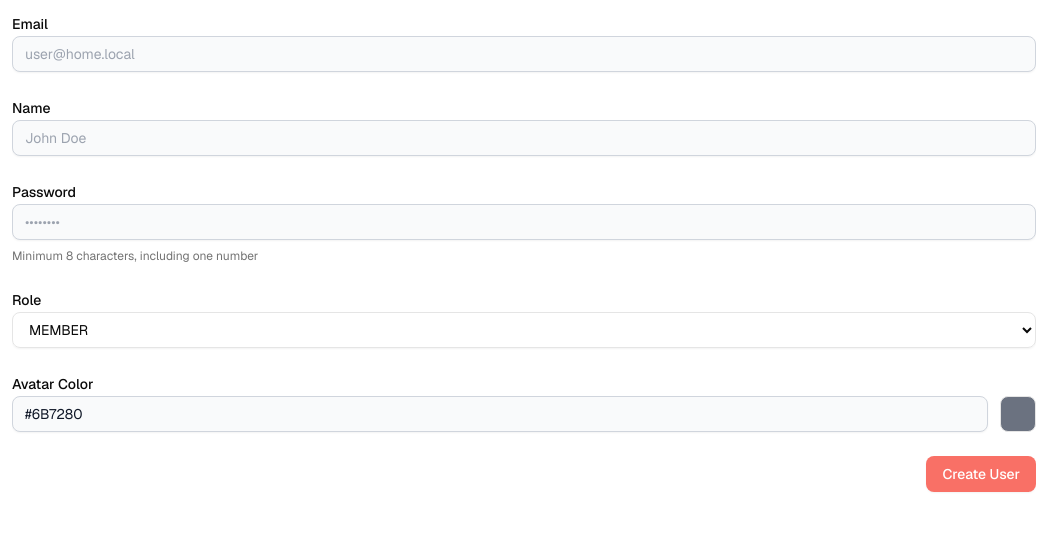
UserForm Component › Form Validation › should require password field in create mode
The image size is (1048, 541).
// Fill other required fields but not password
In the field labelled "Email": (524,54) [12,36,1036,72], type "test@example.com"
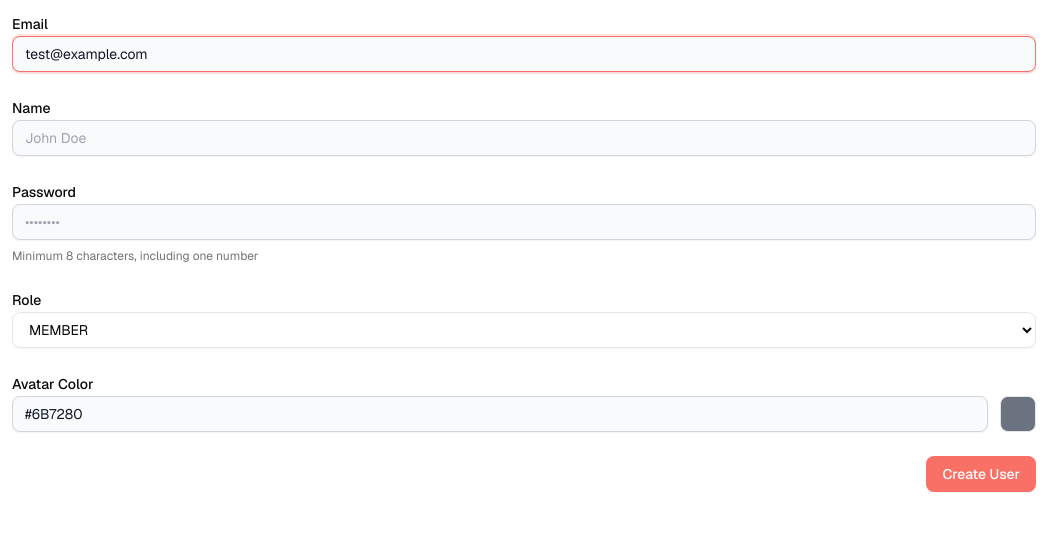
In the field labelled "Name": (524,138) [12,120,1036,156], type "Test User"
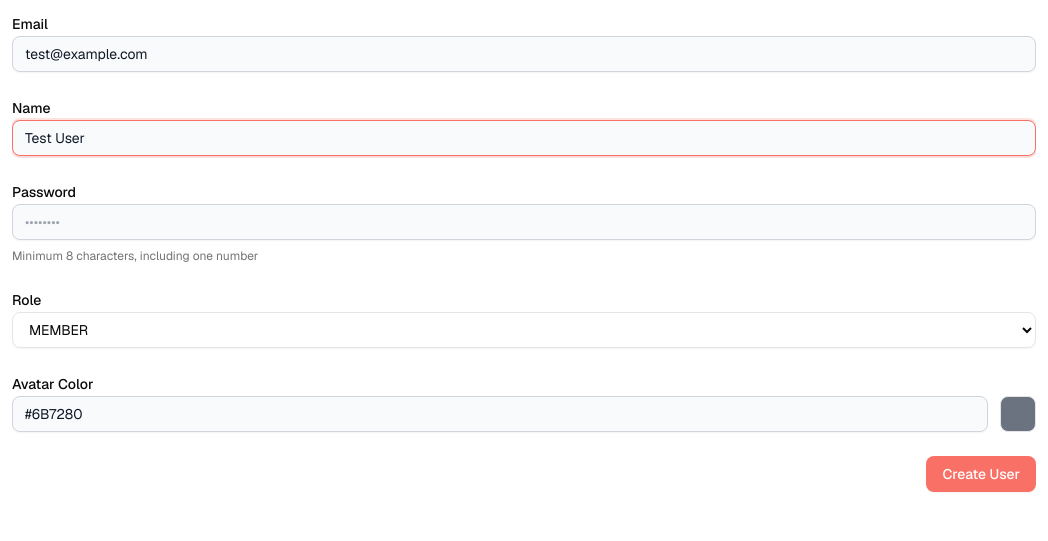
Click the button "Create User": (981,474) [926,456,1036,492]
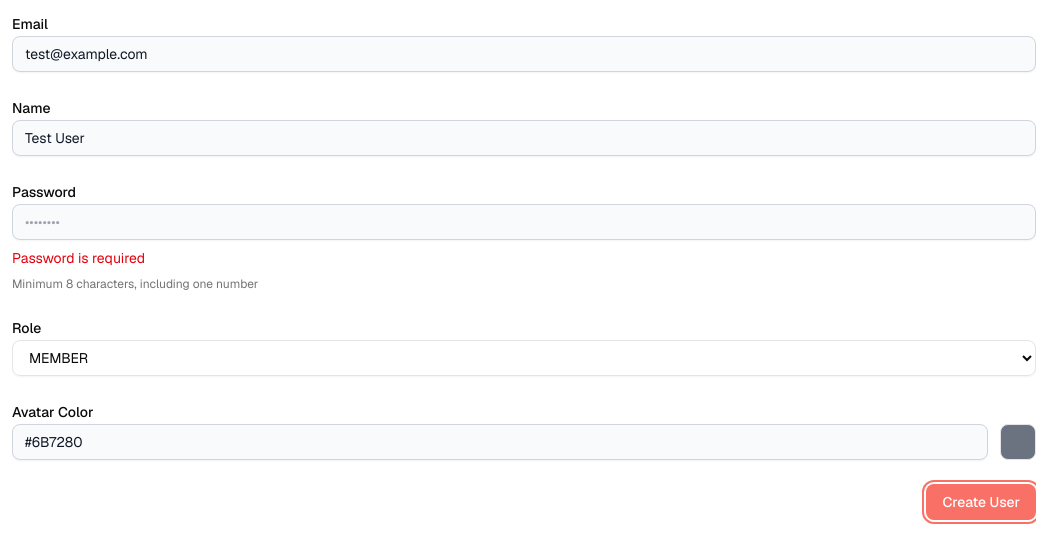
Now the text "Password is required" is shown, box [12,249,145,267]
